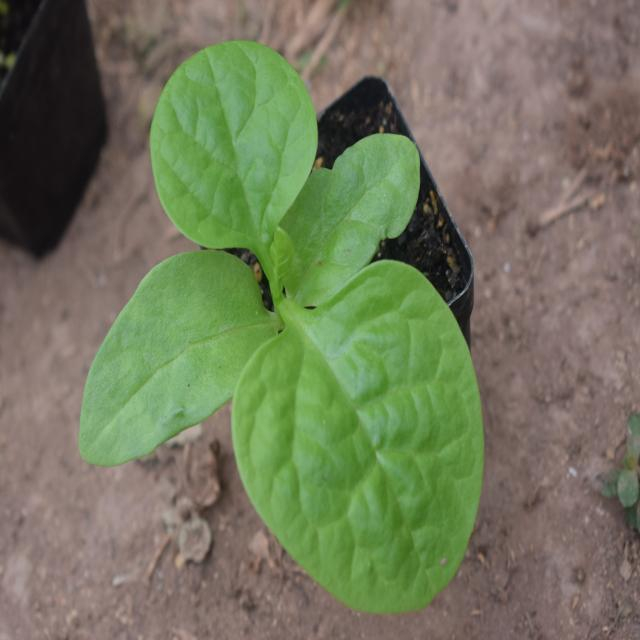Ceylon spinach: (82, 39, 490, 595)
